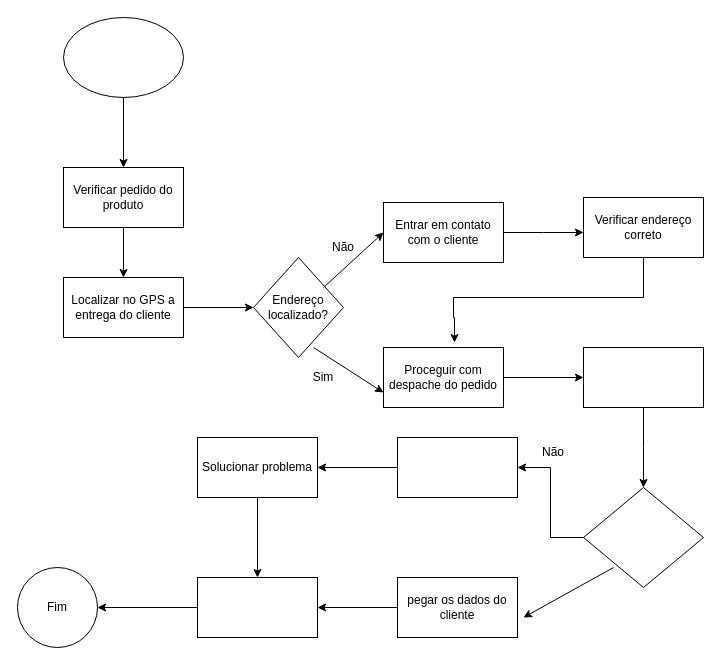
The diagram is 721 pixels wide and 665 high, and some of its shapes have lost their labels. Here are the shapes that lost their labels. From the top down, the centre of each, then its label:
(x=123, y=57): Início
(x=643, y=377): Chegar ao endereço
(x=457, y=467): Entrar em contato com cliente
(x=643, y=537): Cliente estava no endereço de entrega?
(x=257, y=607): Despachar produto
